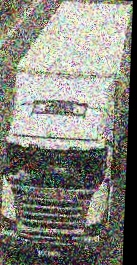truck: (0, 0, 131, 263)
